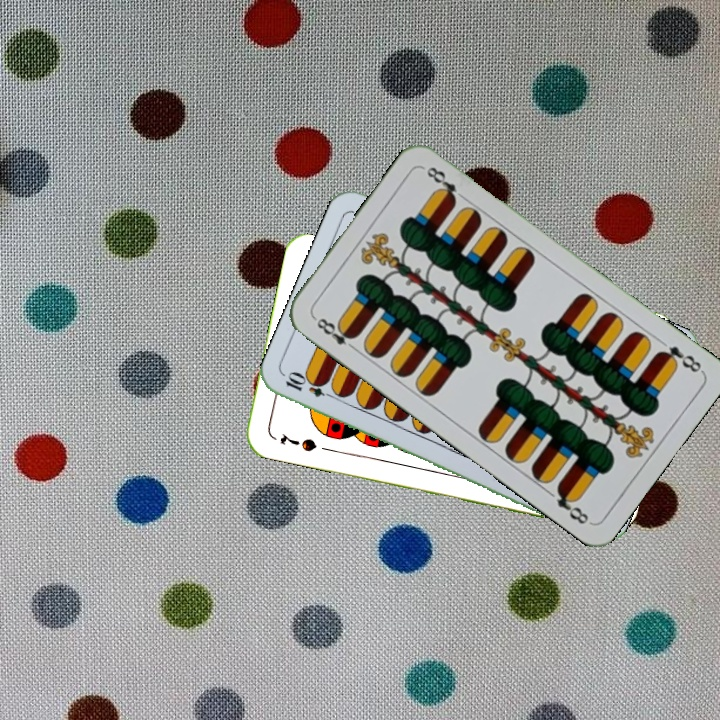E10: (281, 370, 339, 402)
E8: (310, 312, 360, 354), (653, 342, 705, 375)
S7: (276, 430, 319, 455)
